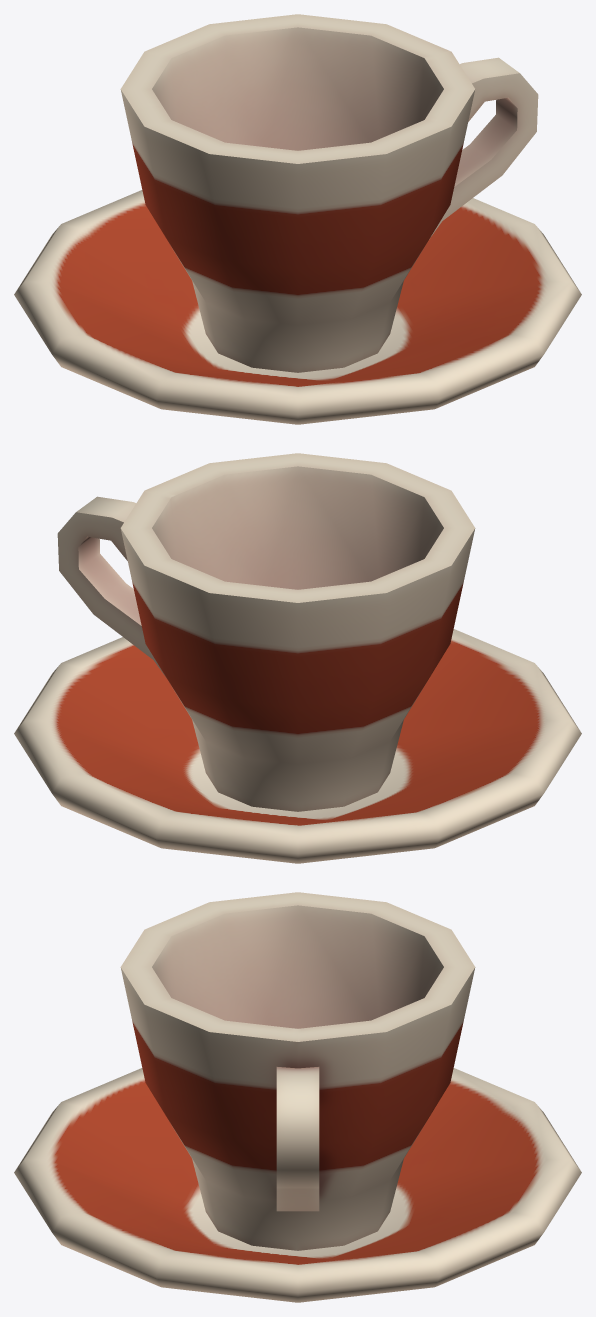
File: cup_01.fbx
3 views of the same model, one above another, from view 1: azimuth 30°, elevation 25°; view 2: azimuth 150°, elevation 25°; view 3: azimuth 270°, elevation 25° (orthographic).
Visible parts, largest first — view 1: cup_01_ready; view 2: cup_01_ready; view 3: cup_01_ready.
Boxes of the visible parts, <box> form: cup_01_ready: <box>14,14,581,424</box>; cup_01_ready: <box>14,453,581,863</box>; cup_01_ready: <box>14,892,581,1302</box>.
Size of the model in its own units: 29.67 by 15.84 by 29.67.
